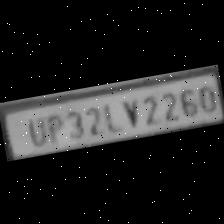0: (194, 80, 218, 113)
2: (136, 90, 162, 125), (154, 87, 179, 122), (80, 100, 104, 136)
3: (59, 104, 85, 140)
6: (174, 83, 198, 117)
L: (96, 96, 120, 132)
P: (42, 109, 66, 144)
U: (20, 113, 48, 147)
V: (116, 94, 142, 128)
